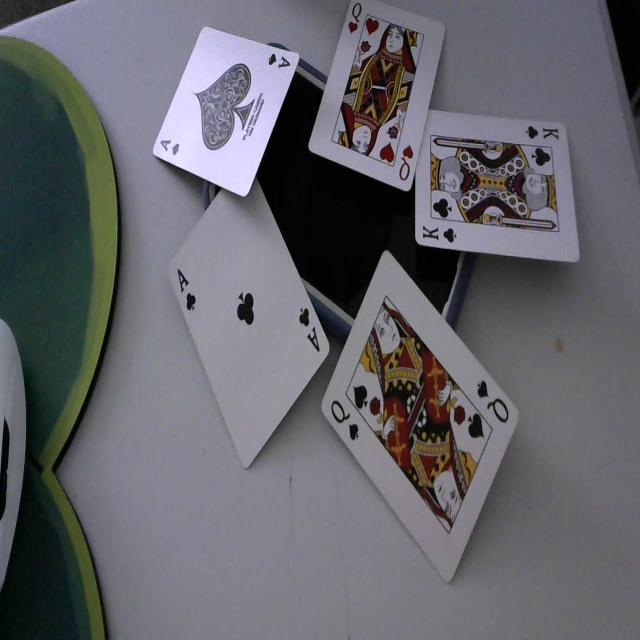AC: (298, 305, 322, 354), (176, 264, 198, 312)
AS: (266, 51, 292, 71), (161, 135, 181, 157)
KC: (421, 220, 458, 243), (524, 125, 562, 142)
QH: (347, 2, 363, 39), (399, 142, 413, 180)
QS: (476, 379, 511, 424), (330, 397, 360, 443)
